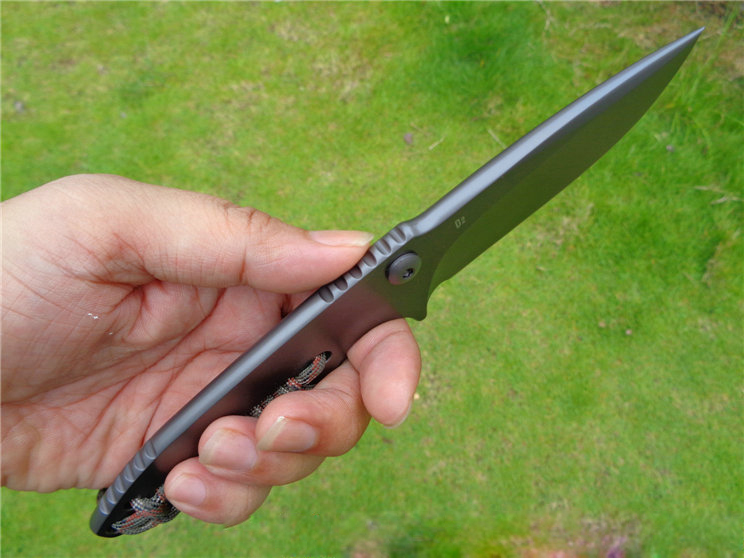knife: (78, 21, 718, 547)
